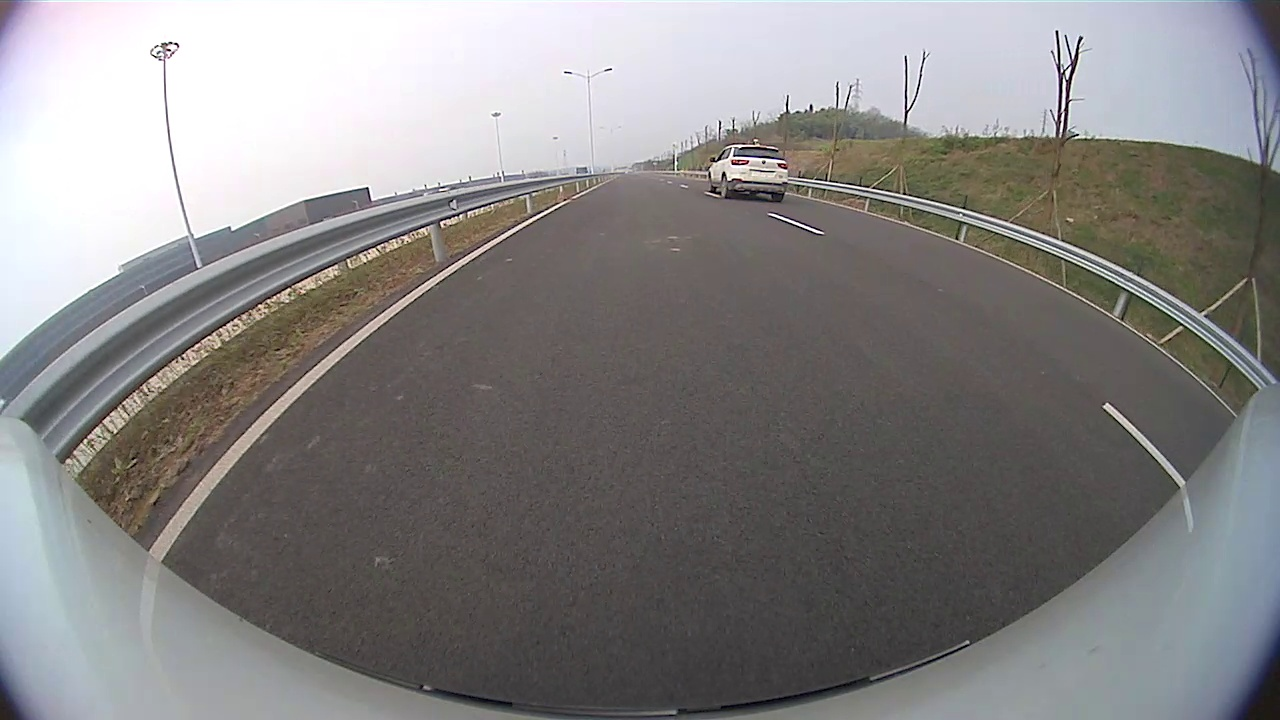car: (707, 144, 789, 202)
rear: (719, 176, 732, 200)
